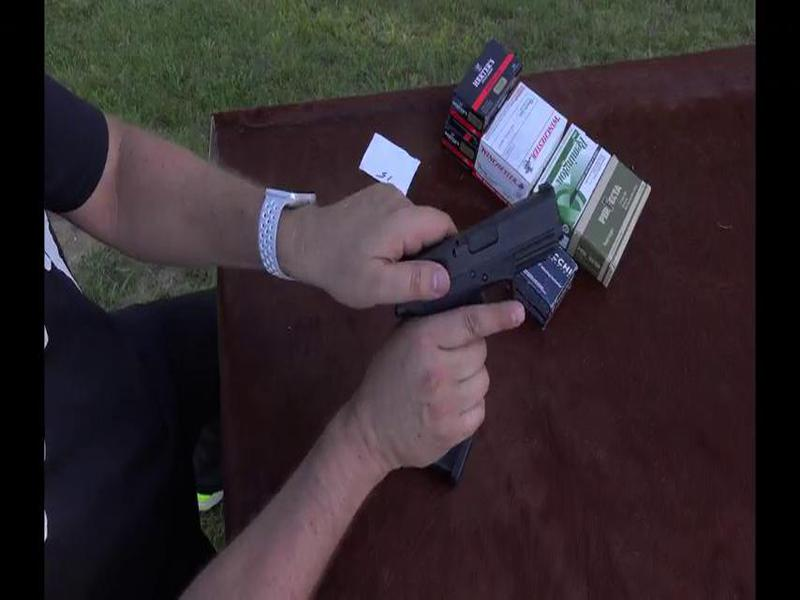Pistola: (387, 194, 569, 312)
